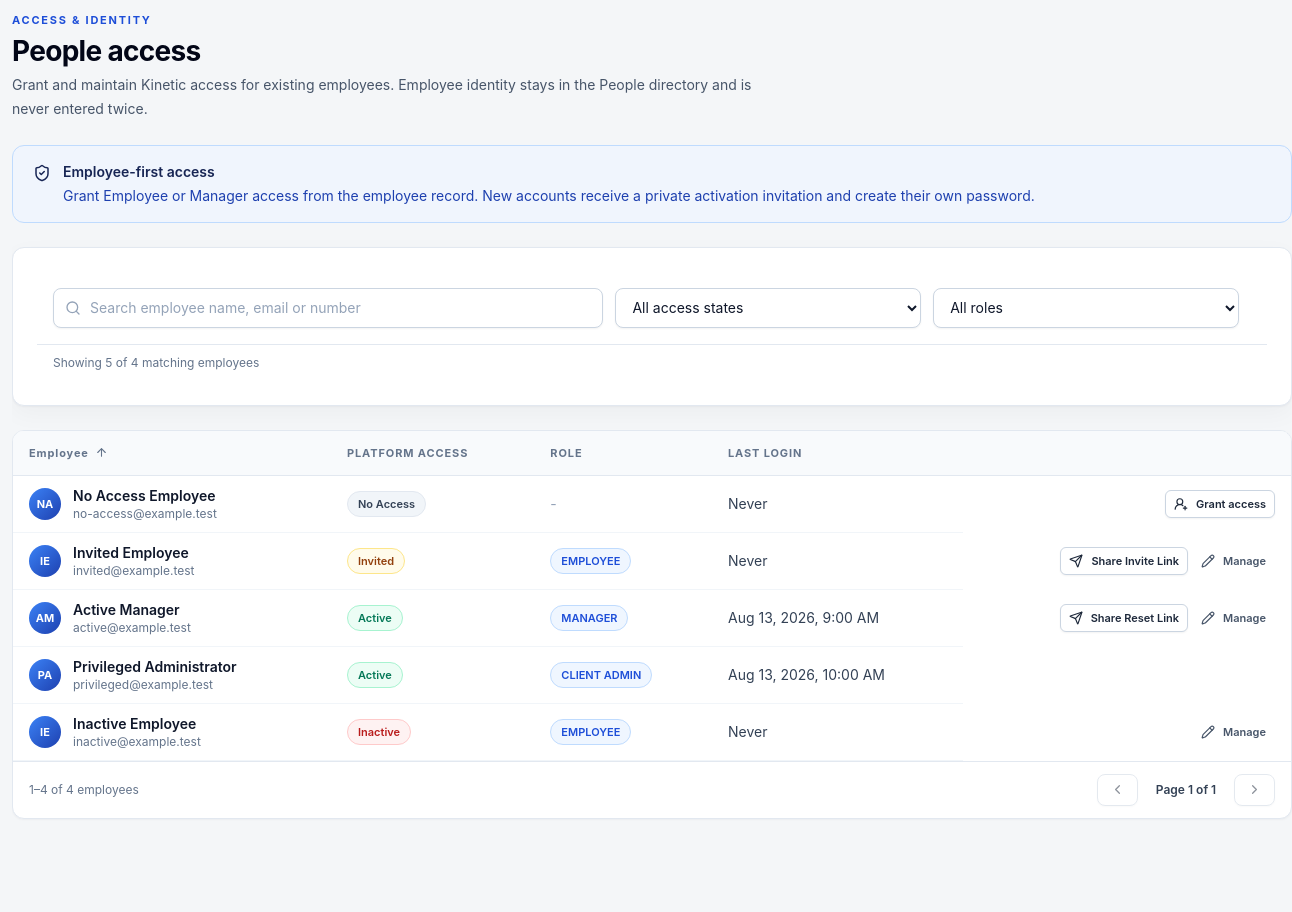
Test case: shares invite and reset links according to account state
Expected: the button with aria-label "Share reset link with Active Manager" reads "Share Reset Link", top-left (1060, 604), bottom-right (1188, 632)
Click the button with aria-label "Share invite link with Invited Employee". click: (1124, 561)
box: top-left (1060, 547), bottom-right (1188, 575)
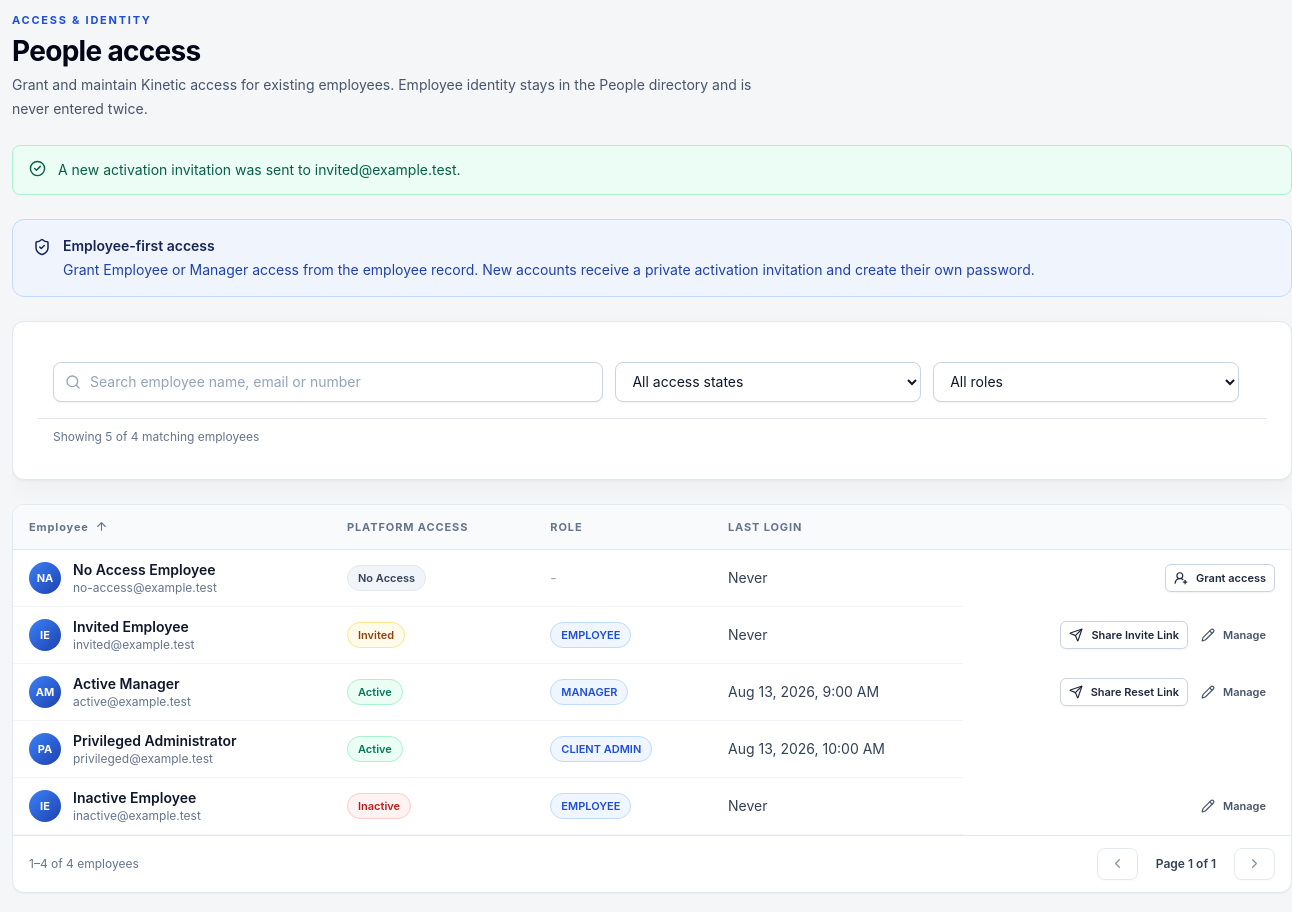
Result: the text "A new activation invitation was sent to invited@example.test." is shown at top-left (58, 158), bottom-right (461, 182)
Click the button with aria-label "Share reset link with Active Manager". click: (1124, 692)
box: top-left (1060, 678), bottom-right (1188, 706)
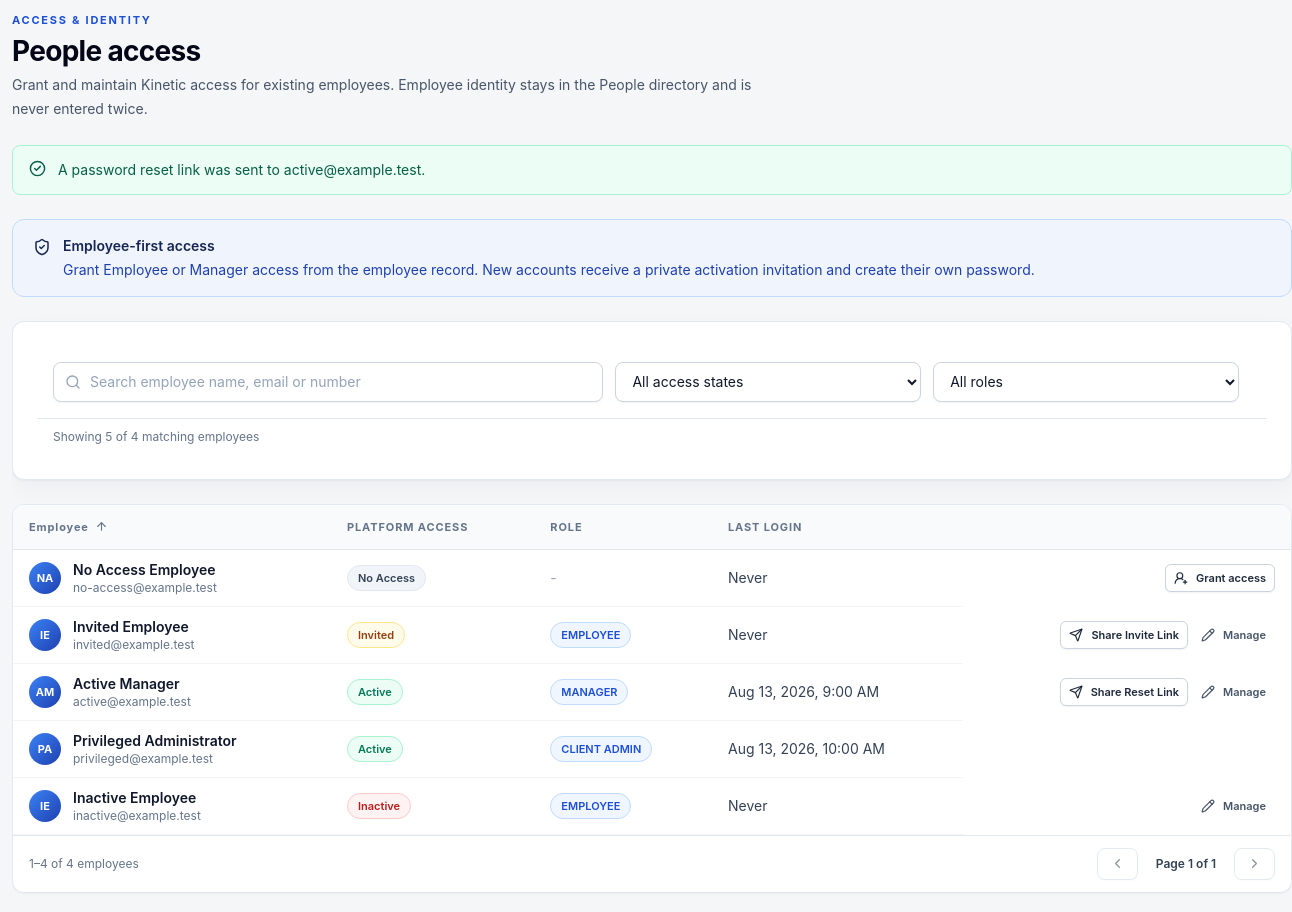
Result: the text "A password reset link was sent to active@example.test." is shown at top-left (58, 158), bottom-right (425, 182)
